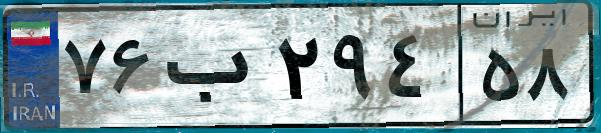2: (270, 28, 330, 110)
4: (385, 28, 445, 110)
5: (475, 38, 525, 113)
6: (110, 28, 158, 98)
7: (57, 26, 110, 100)
8: (525, 38, 570, 115)
9: (330, 28, 385, 110)
ب: (158, 20, 270, 120)
